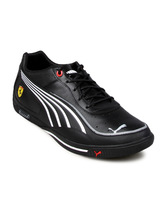shoes: (6, 50, 157, 157)
